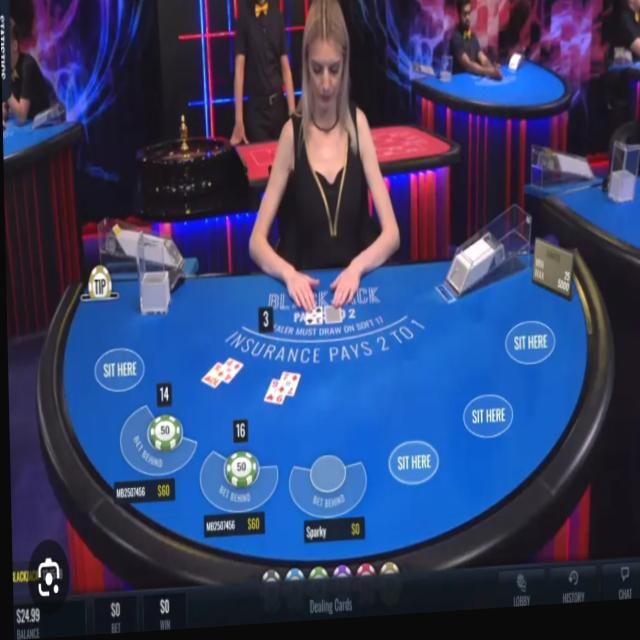Card-3: (304, 312, 321, 329)
Card-4: (215, 361, 242, 387)
Card-7: (277, 375, 299, 401)
Card-9: (262, 382, 284, 409)
Card-K: (199, 364, 221, 391)
